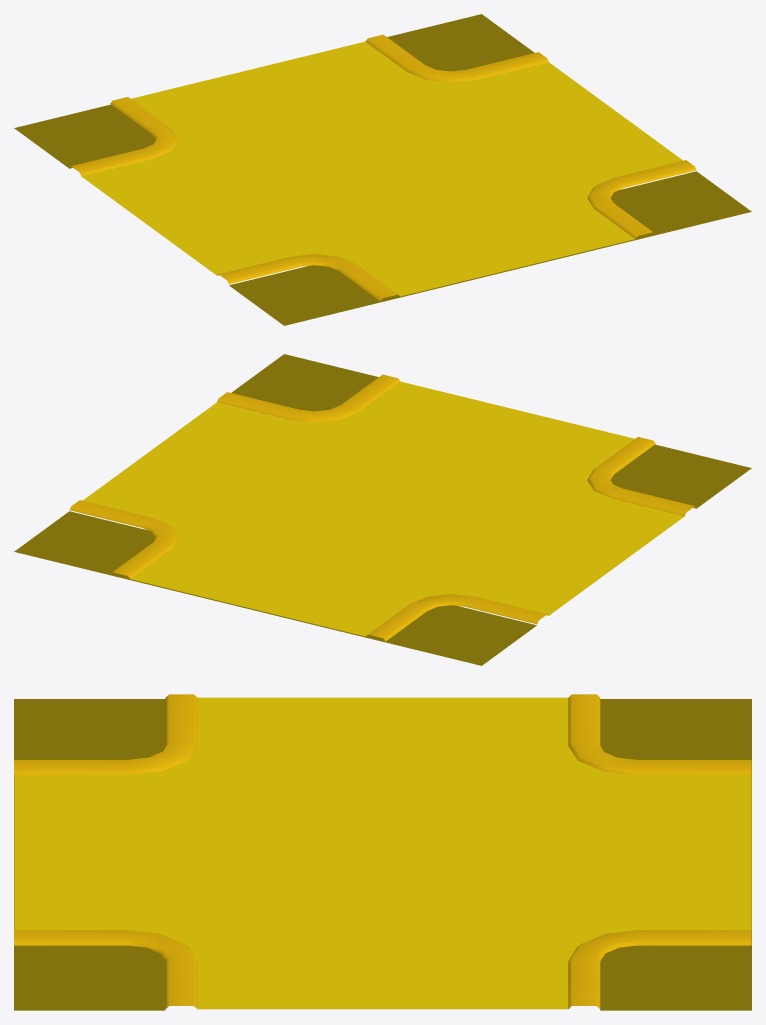
Rendered from XStreet_SM.fbx.
The picture shows the model from 3 angles, top to bottom: view 1: azimuth 30°, elevation 25°; view 2: azimuth 150°, elevation 25°; view 3: azimuth 270°, elevation 25°; orthographic projection. The views are drawn at different scales.
Parts seen in each view (by area): view 1: XStreet2; view 2: XStreet2; view 3: XStreet2.
Part boxes in pixels (box(x1,y1,x2,y2)): XStreet2: box(14, 14, 751, 325); XStreet2: box(14, 354, 751, 665); XStreet2: box(14, 694, 751, 1010).
Bounding box in the file's own units: 100 × 0.7369 × 100.
